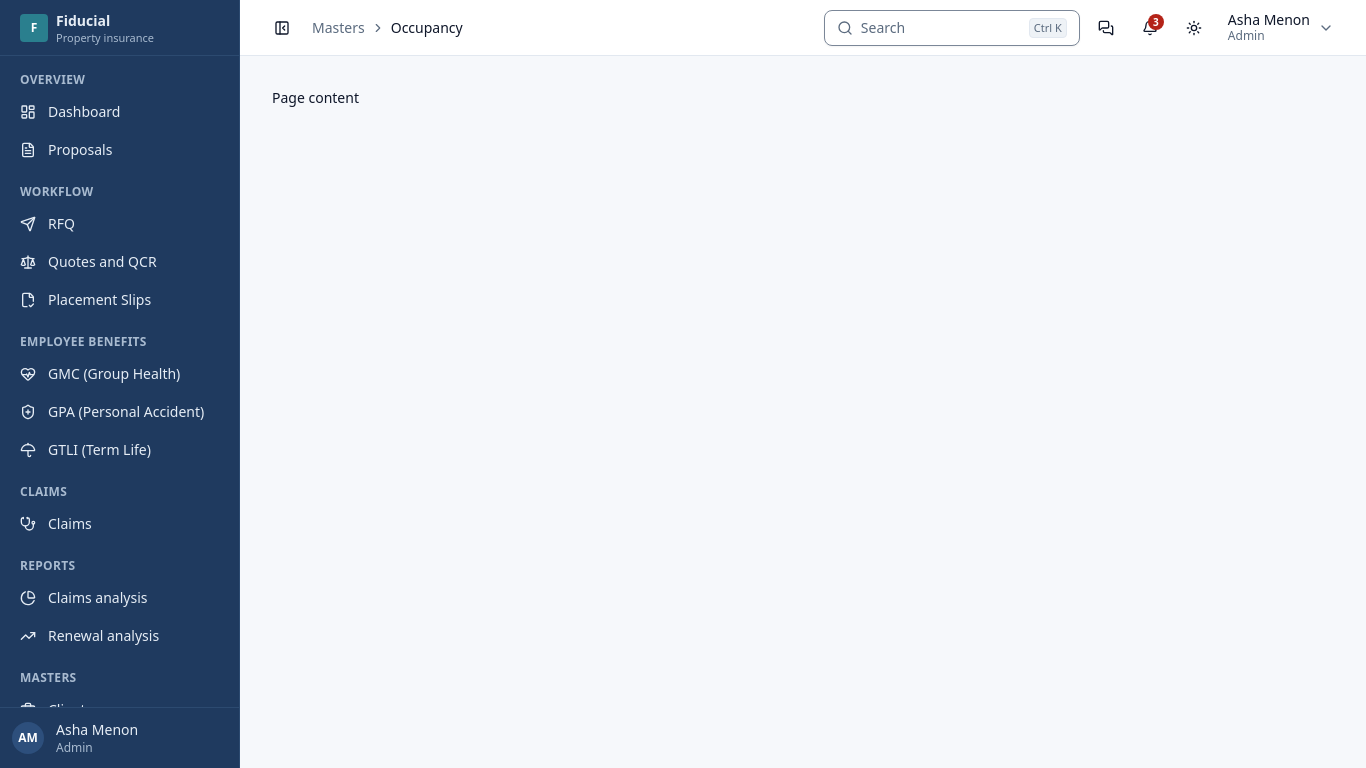
AppShell › returns focus to the search button when the palette closes
Click the button "Search Ctrl K": (952, 28) [824,10,1080,46]
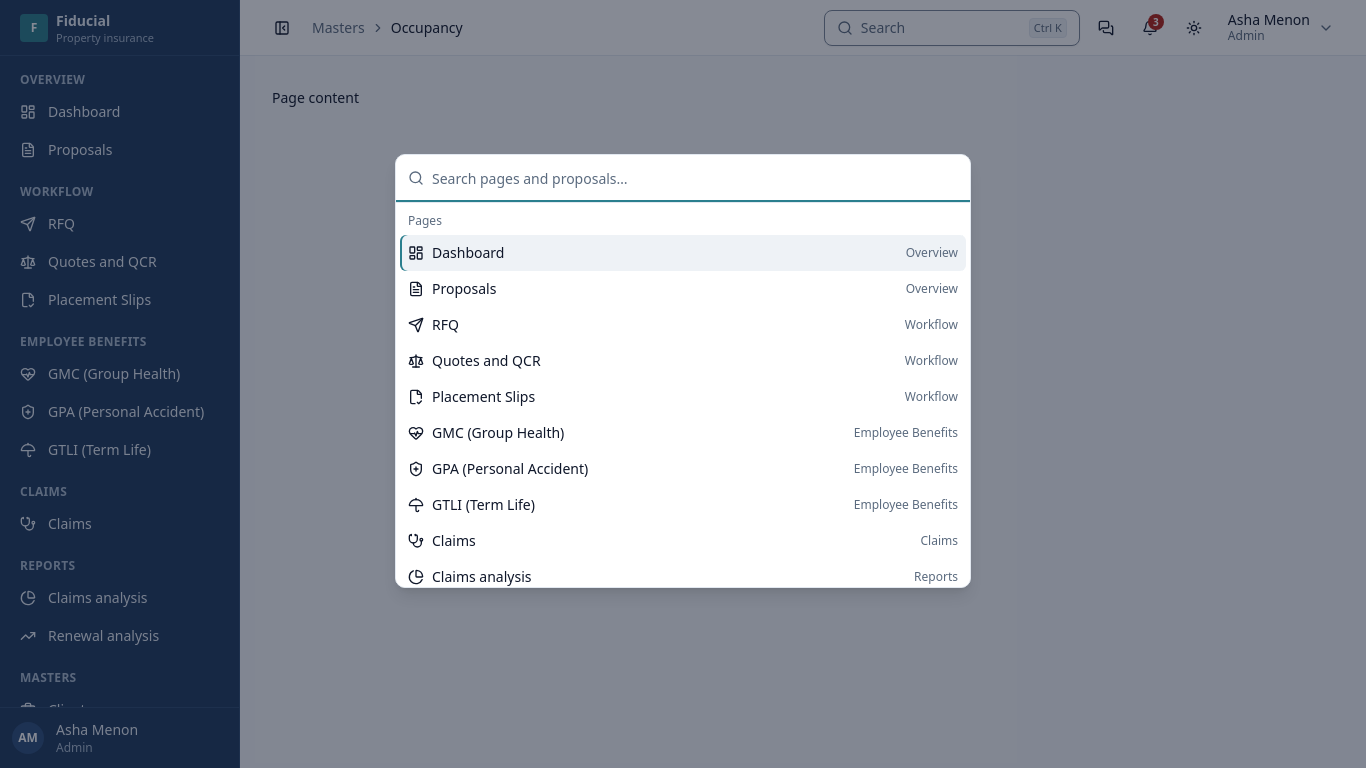
Now the dialog named "Search" is shown, box [395,154,971,588]
Press Escape
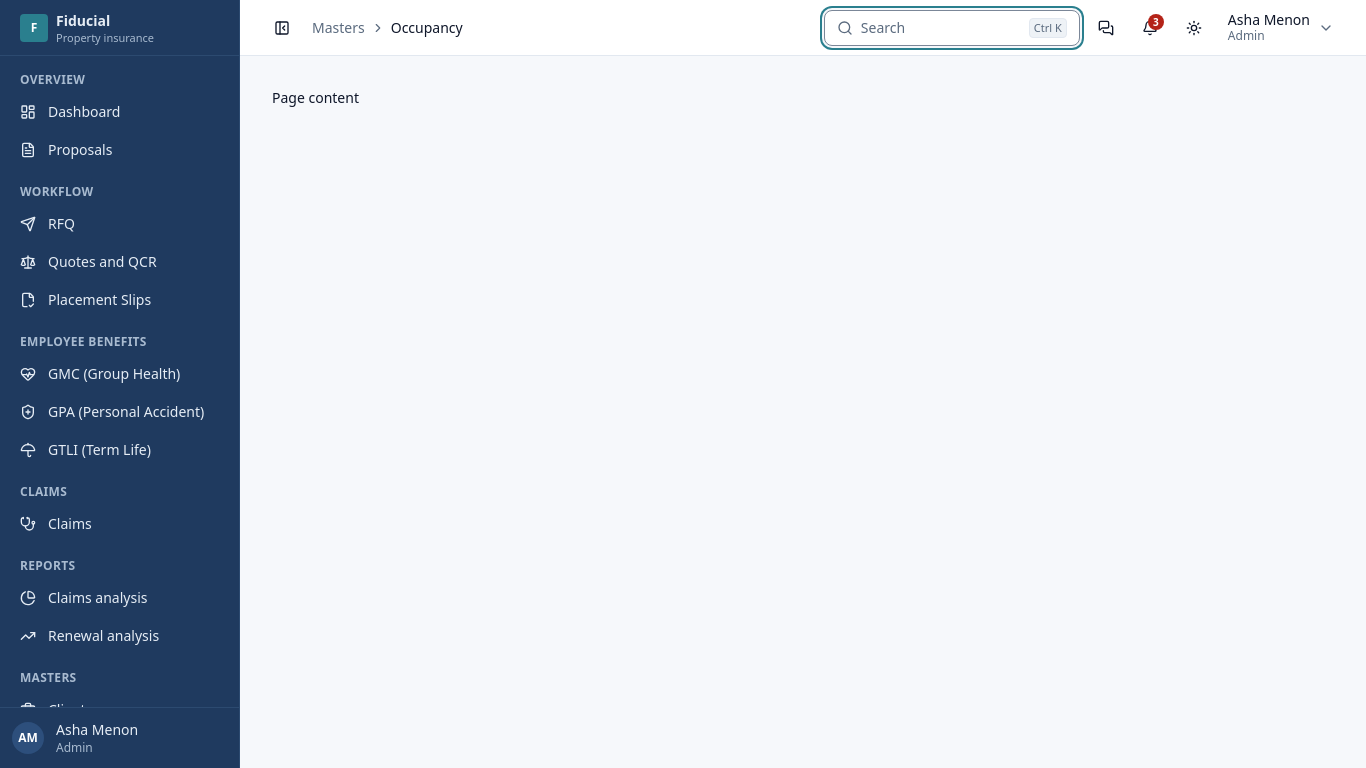
Now the dialog is gone
